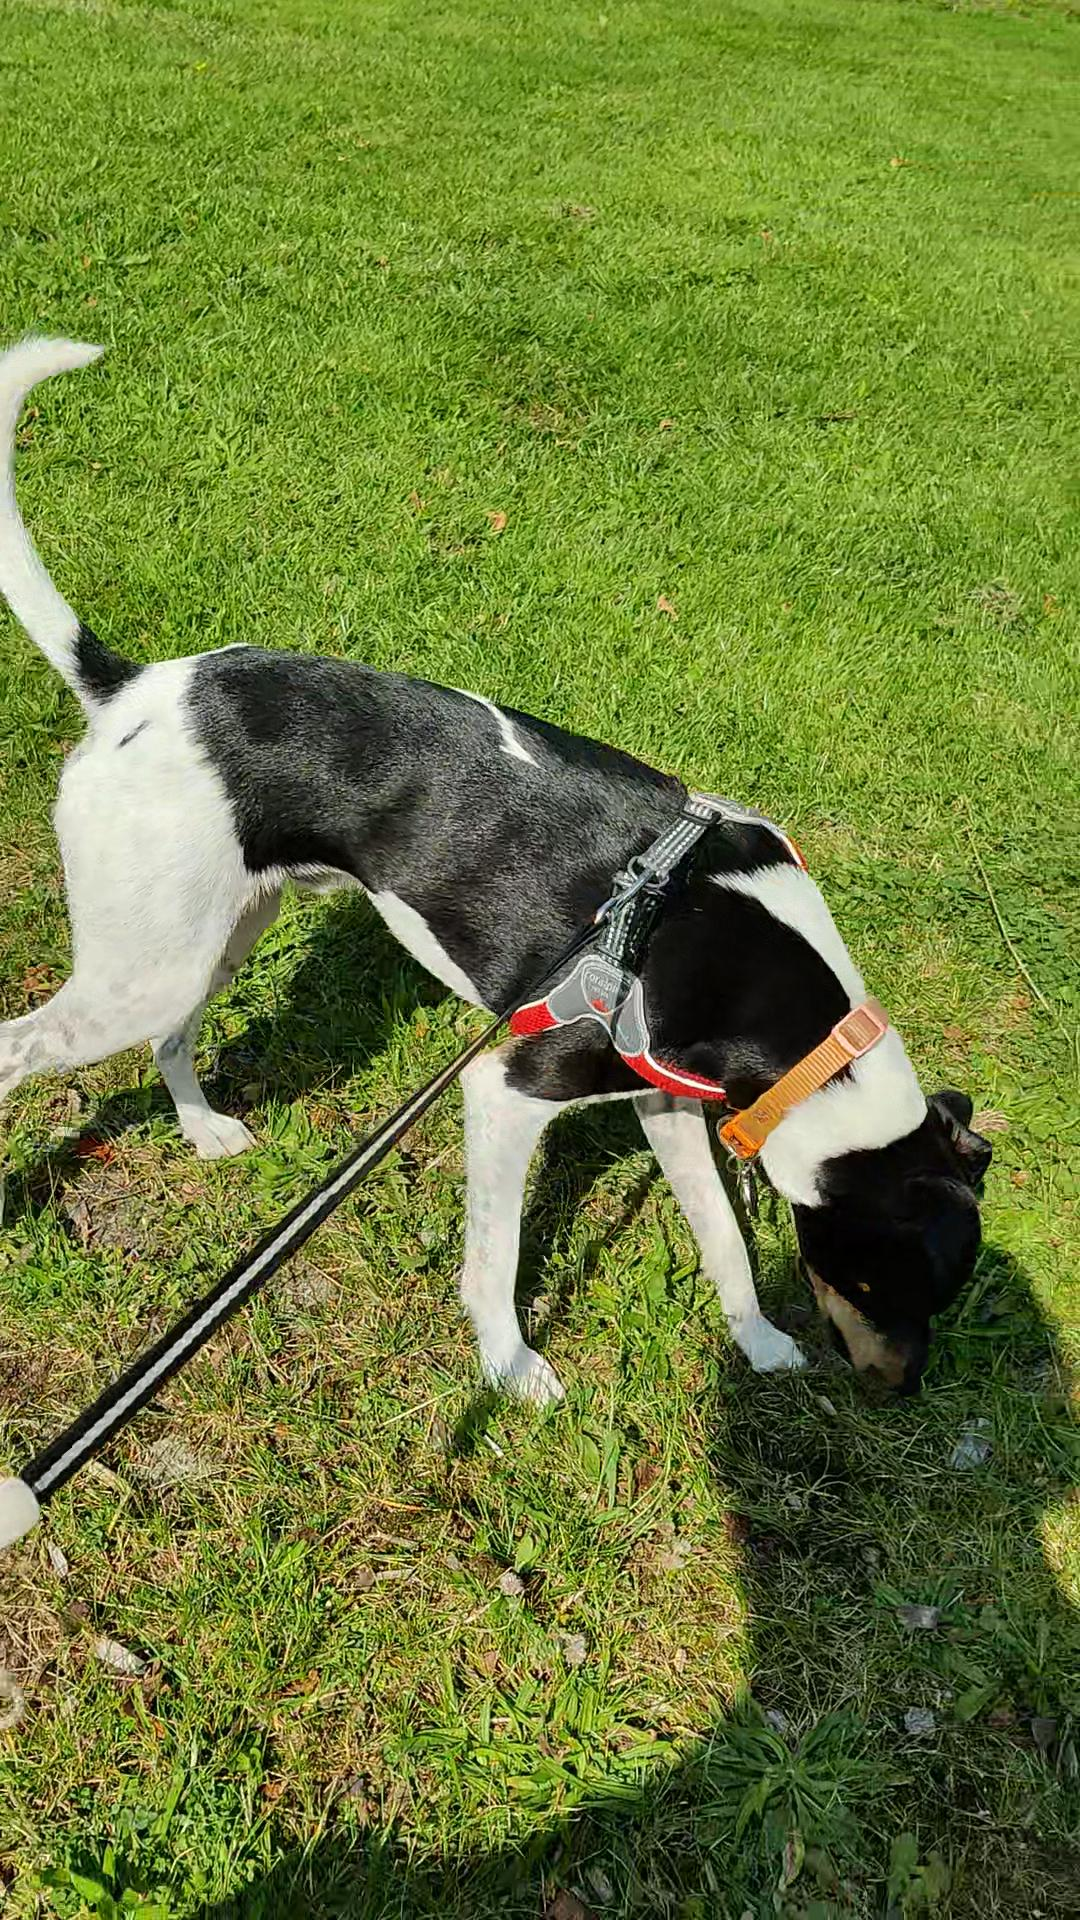Dog: (0, 324, 1000, 1414)
